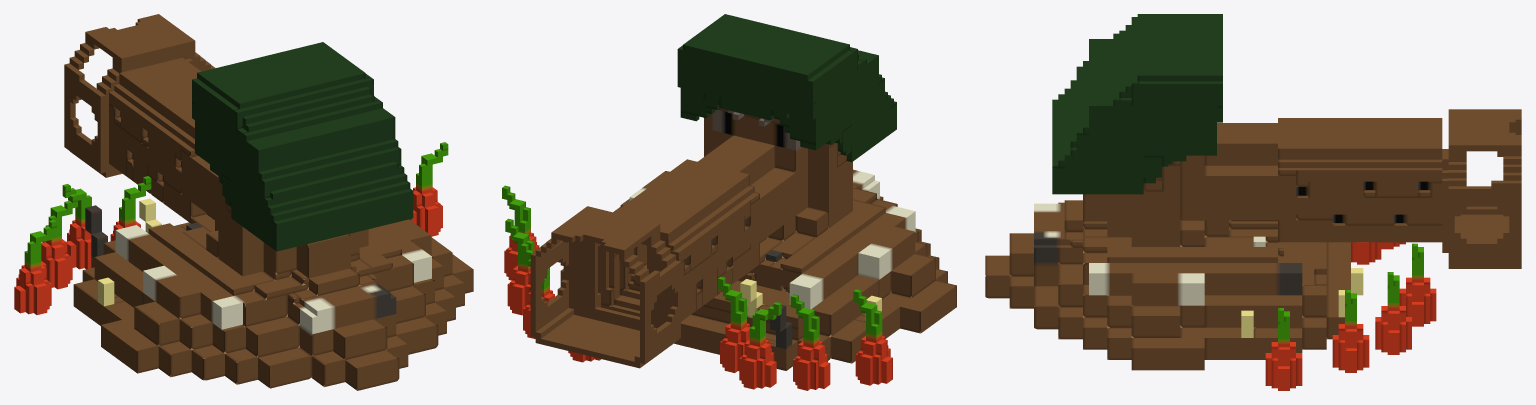
The model's file is Animacion.dae.
The picture shows the model from 3 angles, left to right: view 1: azimuth 30°, elevation 25°; view 2: azimuth 150°, elevation 25°; view 3: azimuth 270°, elevation 25°; orthographic projection.
Parts seen in each view (by area): view 1: Archivo con toda la info-local, Archivo con toda la info (2)-local; view 2: Archivo con toda la info-local, Archivo con toda la info (2)-local; view 3: Archivo con toda la info-local, Archivo con toda la info (2)-local.
Part boxes in pixels (x1,y1,x2,y2): Archivo con toda la info-local: (14,42,473,390); Archivo con toda la info (2)-local: (64,14,215,177); Archivo con toda la info-local: (502,14,956,390); Archivo con toda la info (2)-local: (530,206,680,368); Archivo con toda la info-local: (985,14,1442,390); Archivo con toda la info (2)-local: (1442,109,1521,268).
Size of the model in its own units: 78 by 44 by 88.
2 materials, 2 textured.
